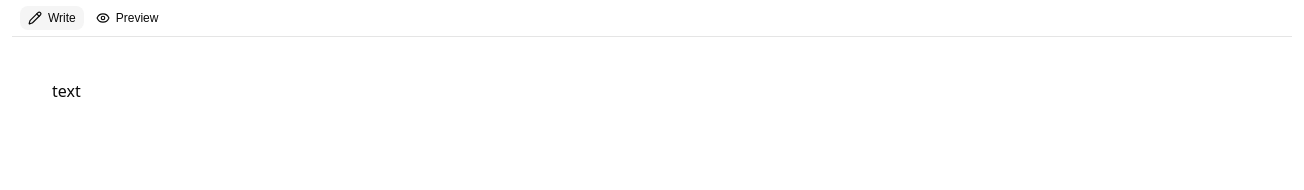
MarkdownEditor › returns to source editing from preview
Click the button "Preview": (127, 18) left=88, top=6, right=166, bottom=30
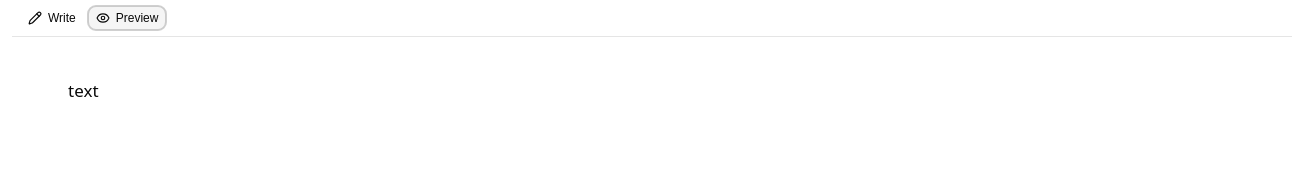
Click the button "Write": (52, 18) left=20, top=6, right=84, bottom=30
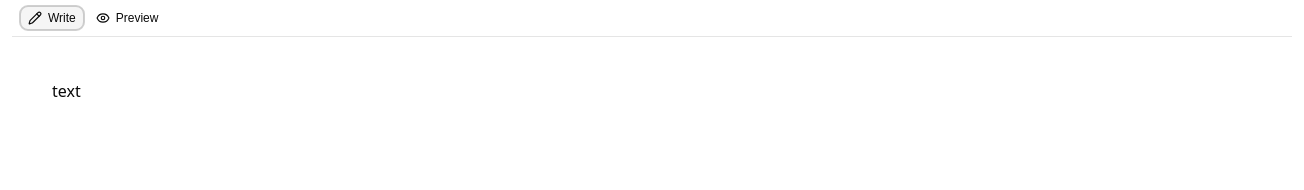
Result: the text box named "Markdown source" is shown
